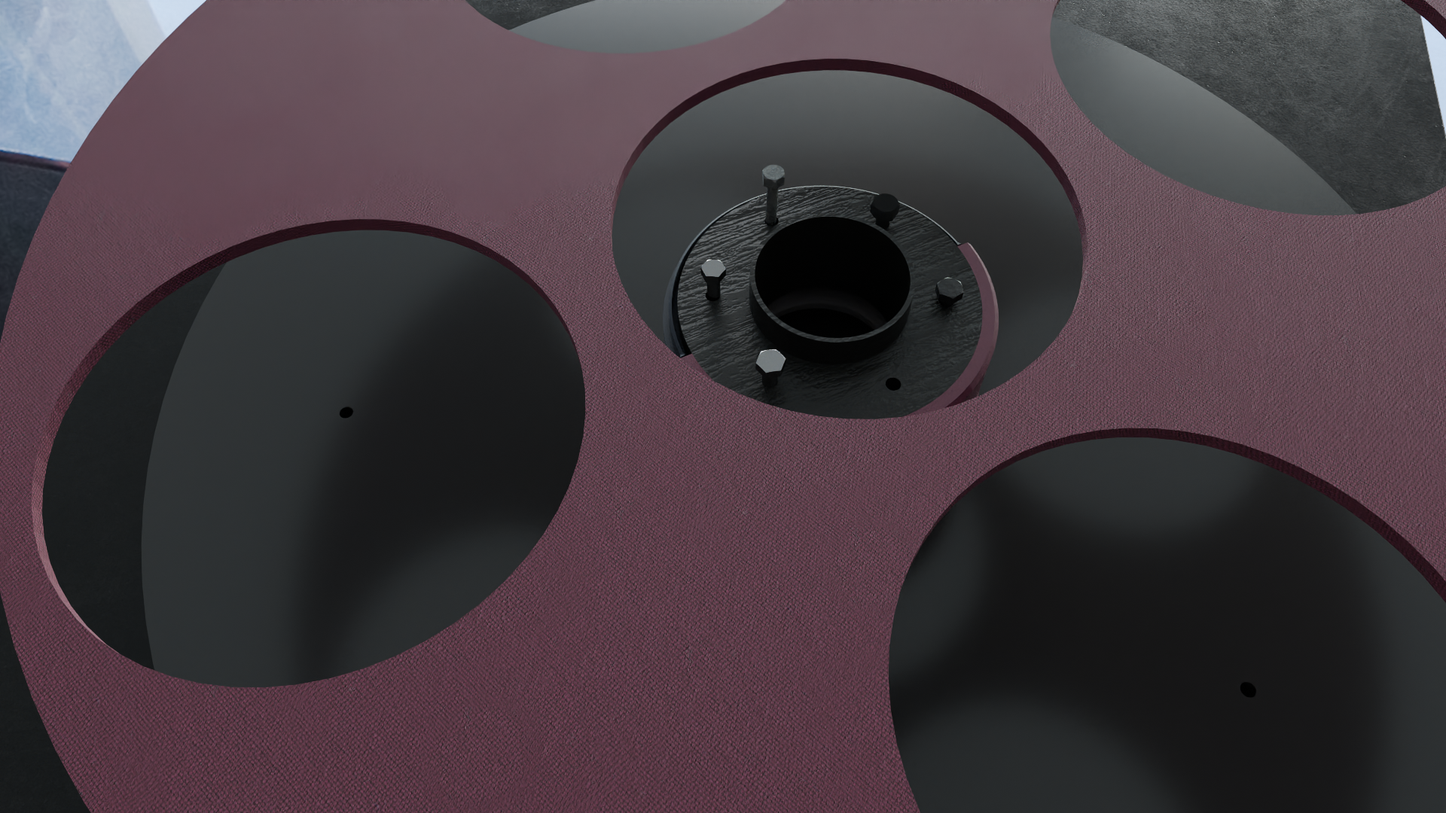bolt: (756, 349, 786, 373), (871, 193, 900, 214), (937, 277, 964, 299), (700, 260, 726, 278), (762, 165, 785, 183)
